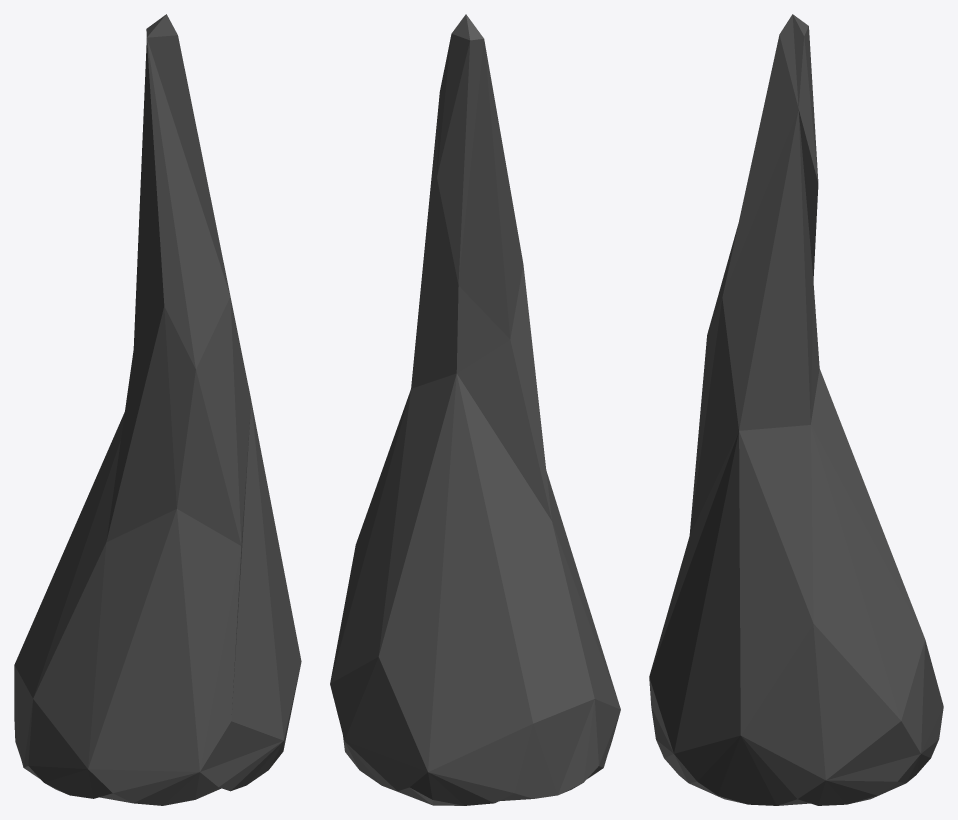
Rendered from Stalactite.fbx.
3 views of the same model, side by side, from view 1: azimuth 30°, elevation 25°; view 2: azimuth 150°, elevation 25°; view 3: azimuth 270°, elevation 25° (orthographic). The views are drawn at different scales.
Visible parts, largest first — view 1: Cylinder275; view 2: Cylinder275; view 3: Cylinder275.
Boxes of the visible parts, x1,y1,x2,y2 form: Cylinder275: [14, 14, 301, 805]; Cylinder275: [330, 14, 620, 805]; Cylinder275: [649, 14, 943, 805].
Size of the model in its own units: 142 by 409 by 143.
